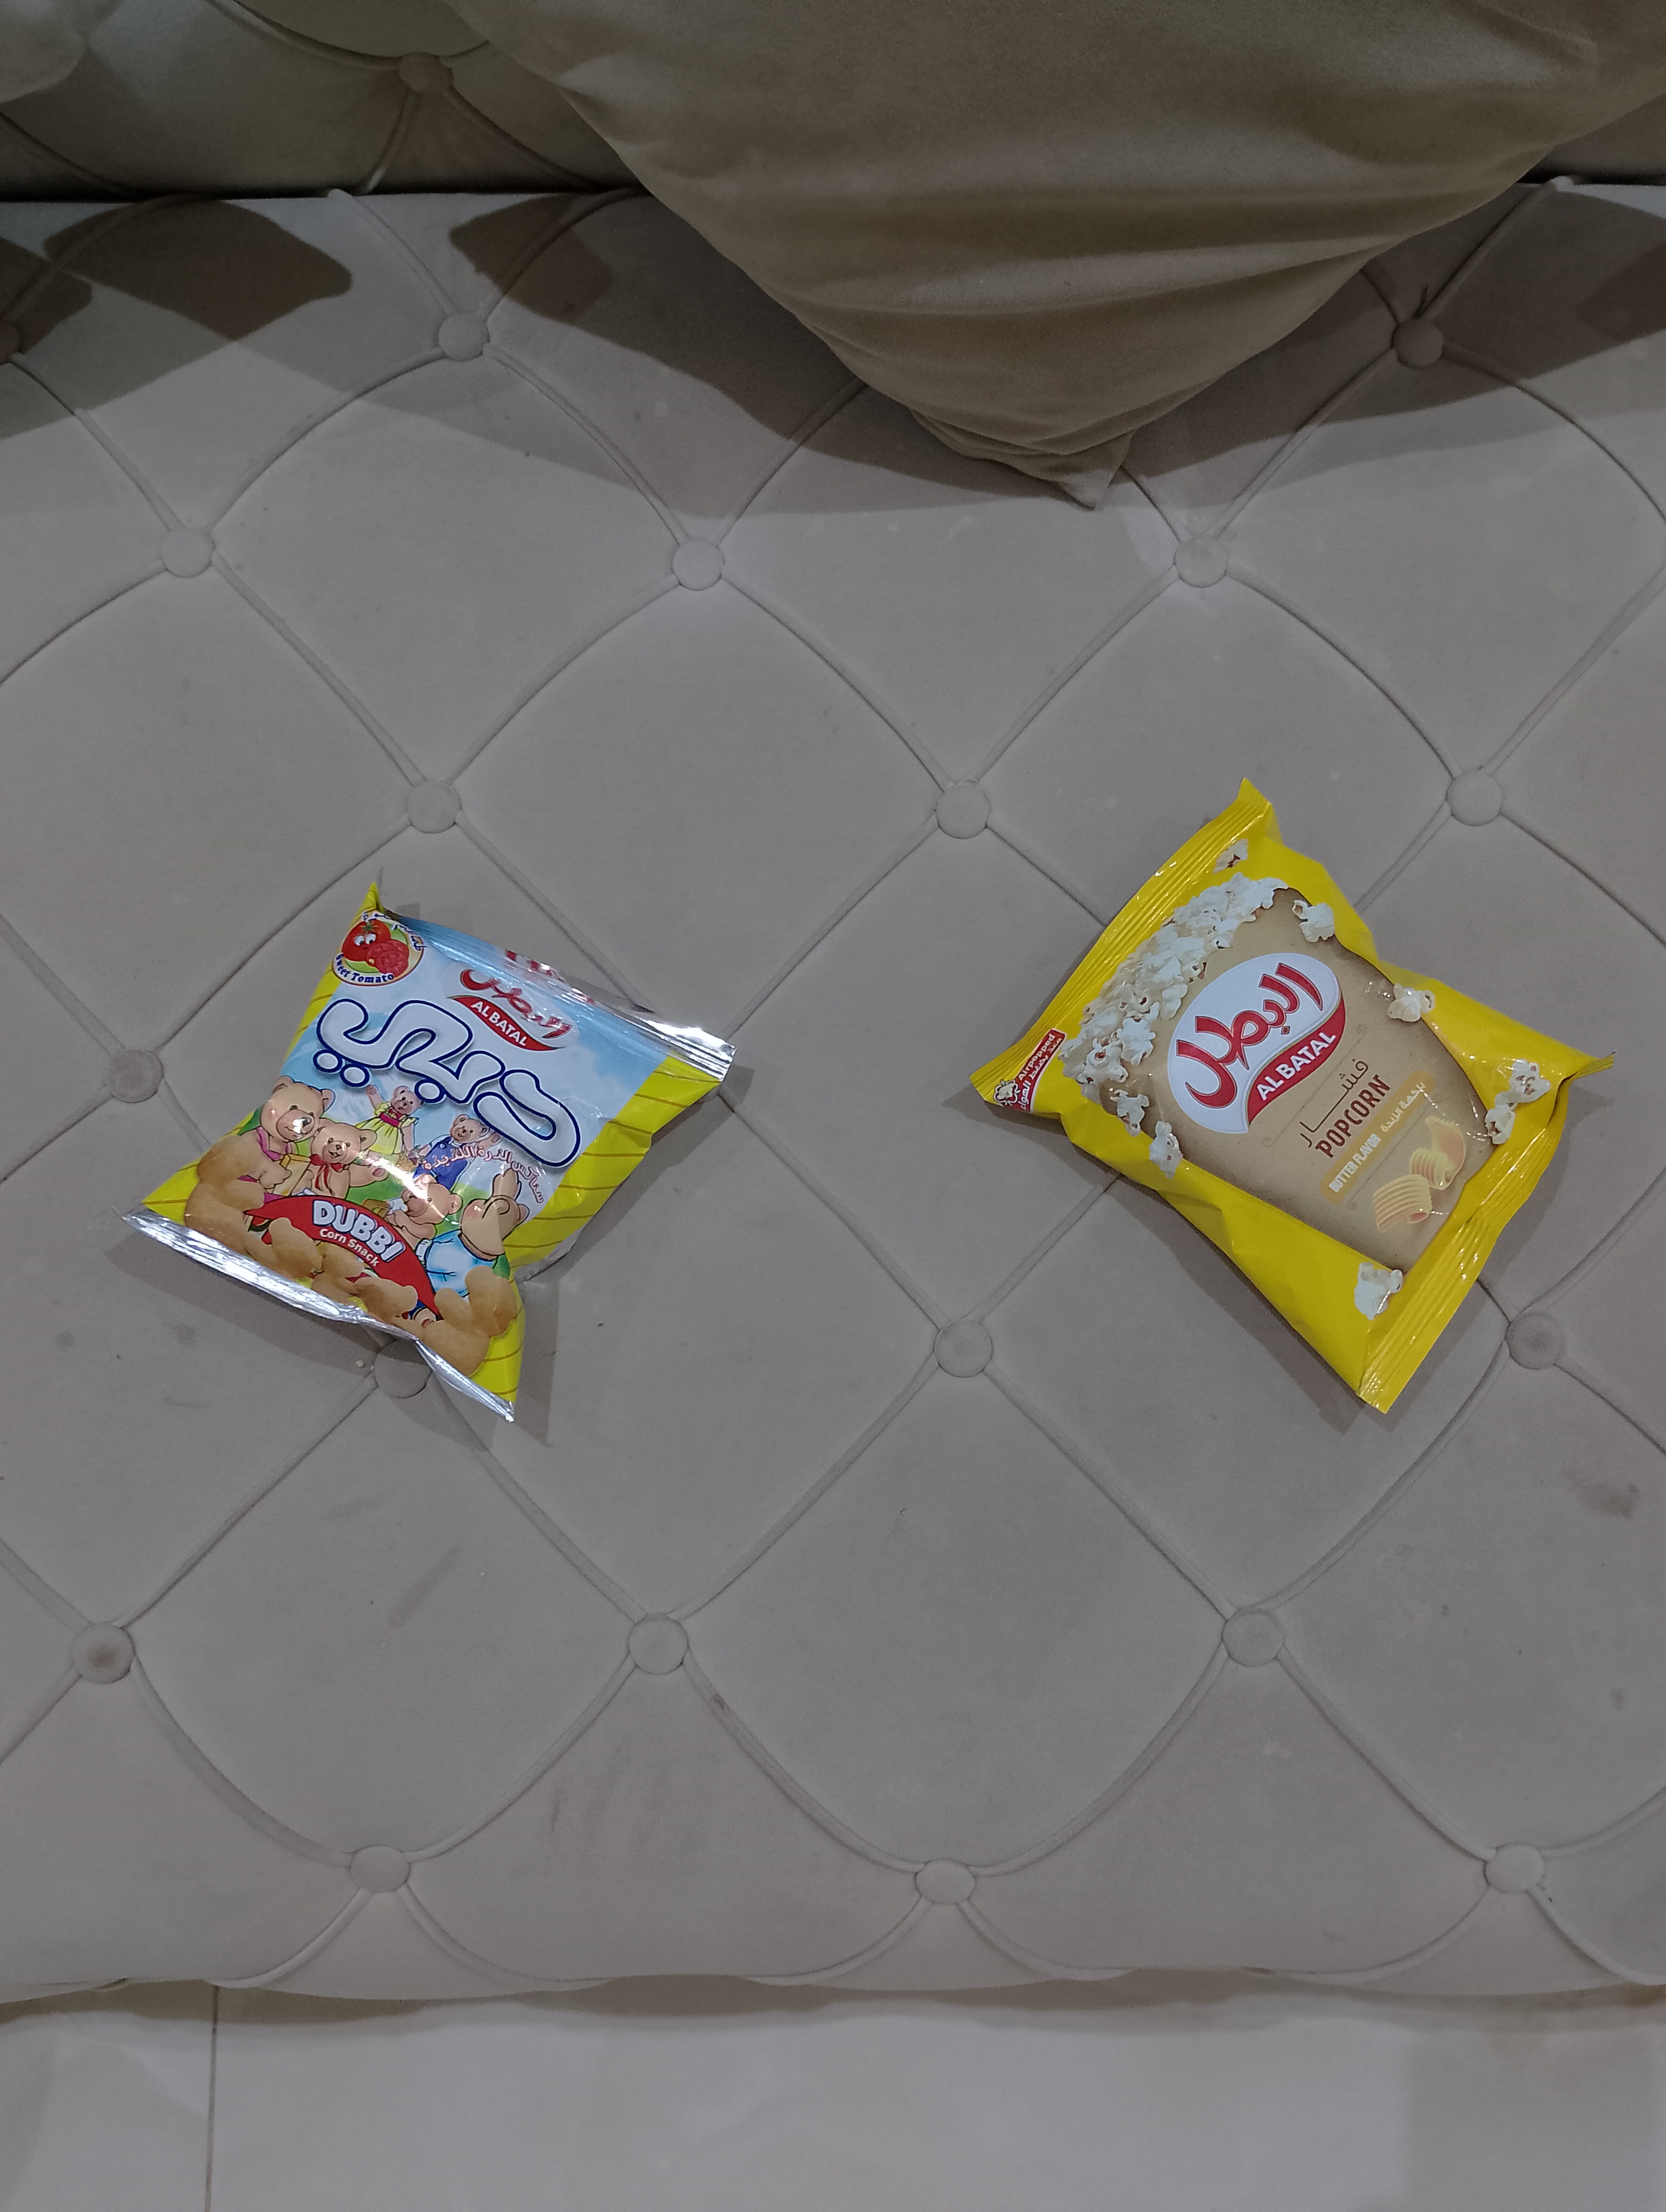albatal_dubbi_corn_snack: (109, 862, 738, 1425)
albatal_popcorn_butter_flavor: (968, 775, 1617, 1416)
